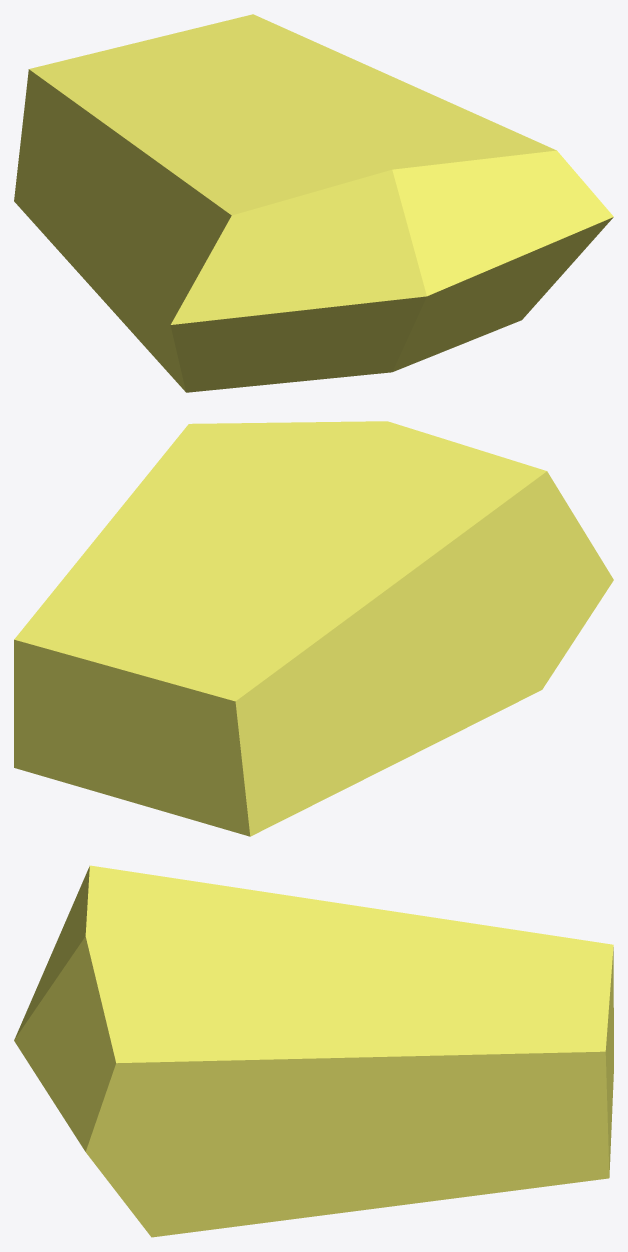
File: Ananas.glb
The picture shows the model from 3 angles, top to bottom: view 1: azimuth 30°, elevation 25°; view 2: azimuth 150°, elevation 25°; view 3: azimuth 270°, elevation 25°; orthographic projection. The views are drawn at different scales.
Parts seen in each view (by area): view 1: Ananas; view 2: Ananas; view 3: Ananas.
Part boxes in pixels (bbox=[...]): Ananas: bbox=[14, 14, 613, 392]; Ananas: bbox=[14, 421, 613, 836]; Ananas: bbox=[14, 865, 613, 1237].
Bounding box in the file's own units: 0.0161 × 0.00739 × 0.0183.
